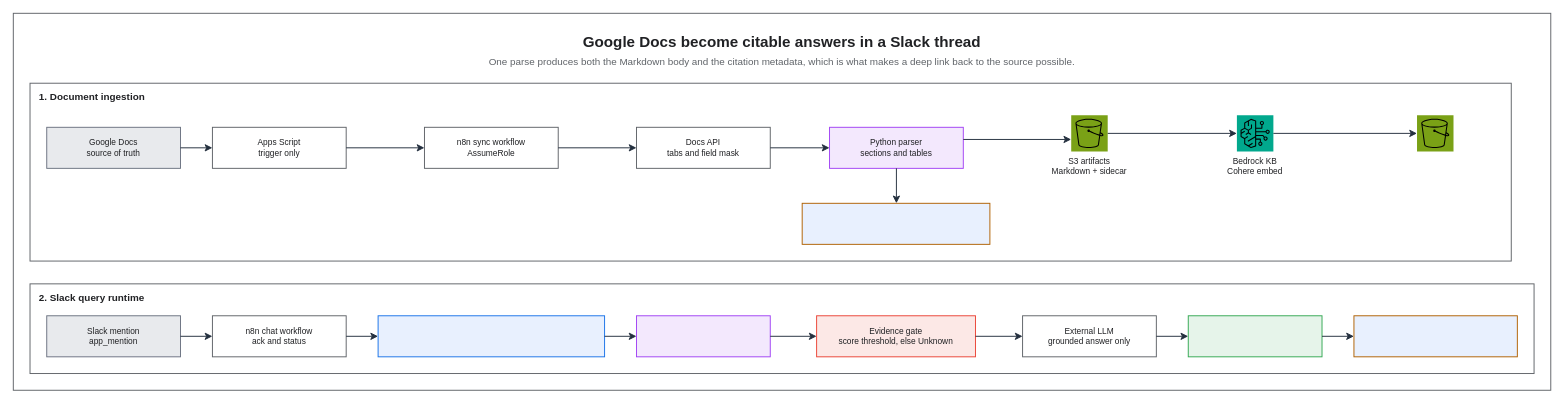
Image size: 1565x404. Some labels were removed from this diagram. Here are the shapes that lost their labels. From the top down, the centre of each, then its label:
At point (1435, 133): "S3 Vectors vector index".
At point (895, 223): "headingId, section path, source URL the citation sidecar".
At point (491, 336): "KB retrieve top 25 candidates from the S3 Vectors index".
At point (703, 336): "Cohere rerank top 5 evidence".
At point (1254, 336): "Thread reply answer with deep links".
At point (1435, 336): "Evaluation hit, answer, citation, unknown".
